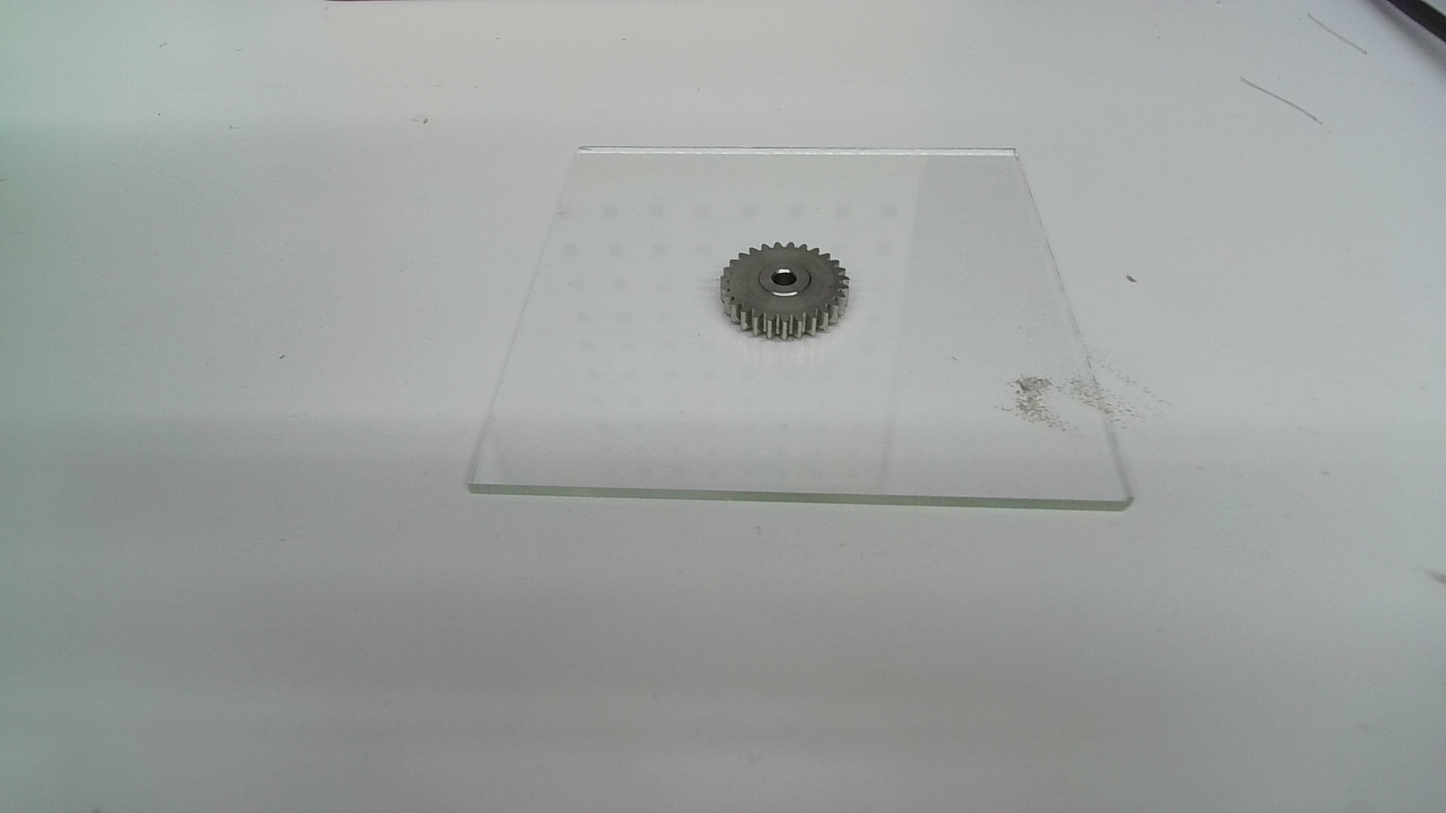gear: (718, 242, 853, 343)
